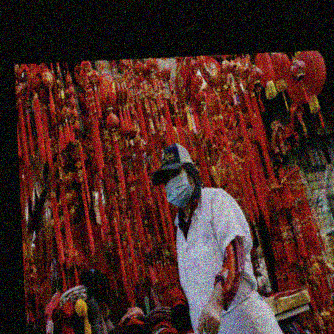with_mask: (234, 162, 278, 205)
